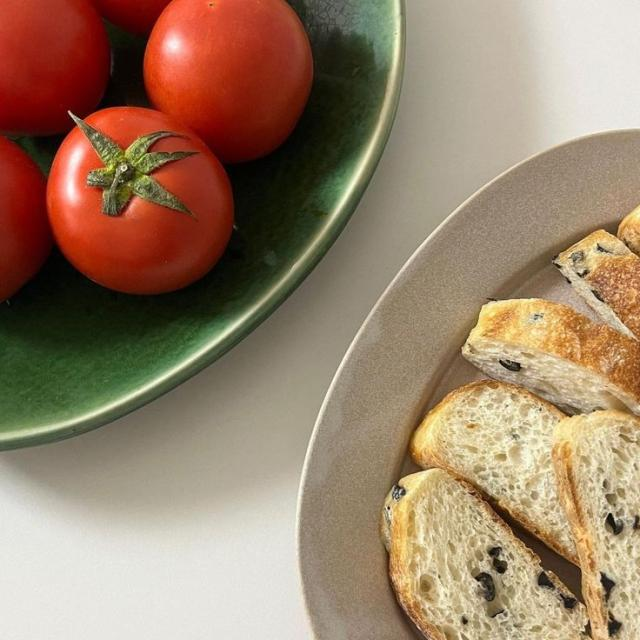sliced_bread: (381, 469, 586, 639), (410, 380, 577, 563), (463, 298, 639, 416), (552, 410, 639, 639), (553, 230, 639, 340), (618, 204, 639, 256)
